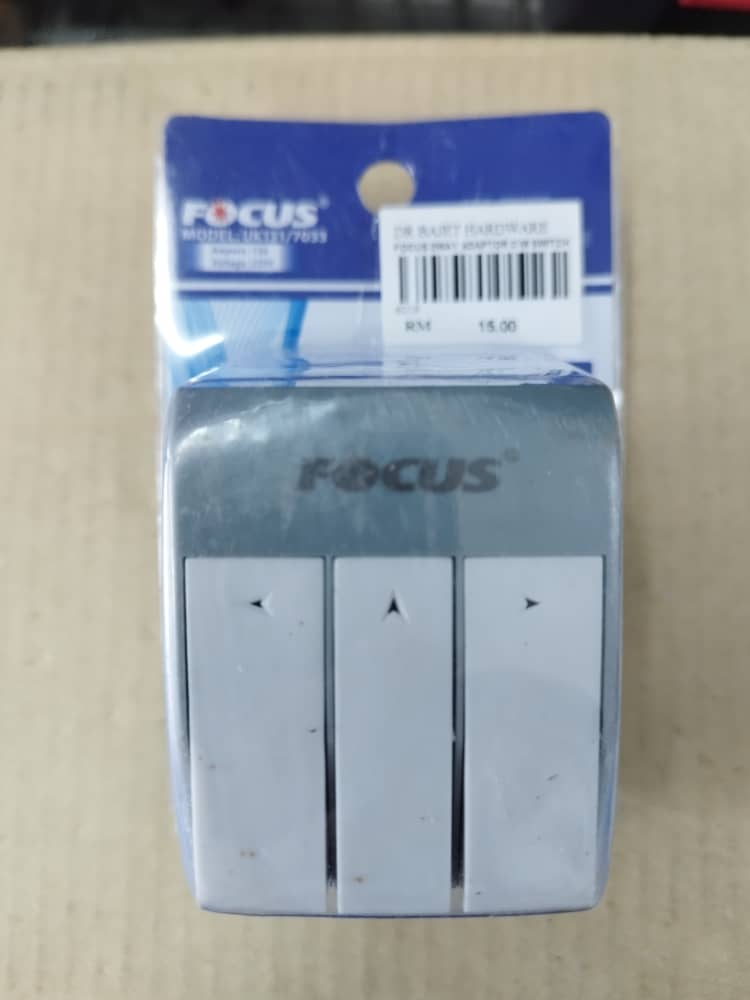sku_13a_adapter: (162, 181, 644, 936)
